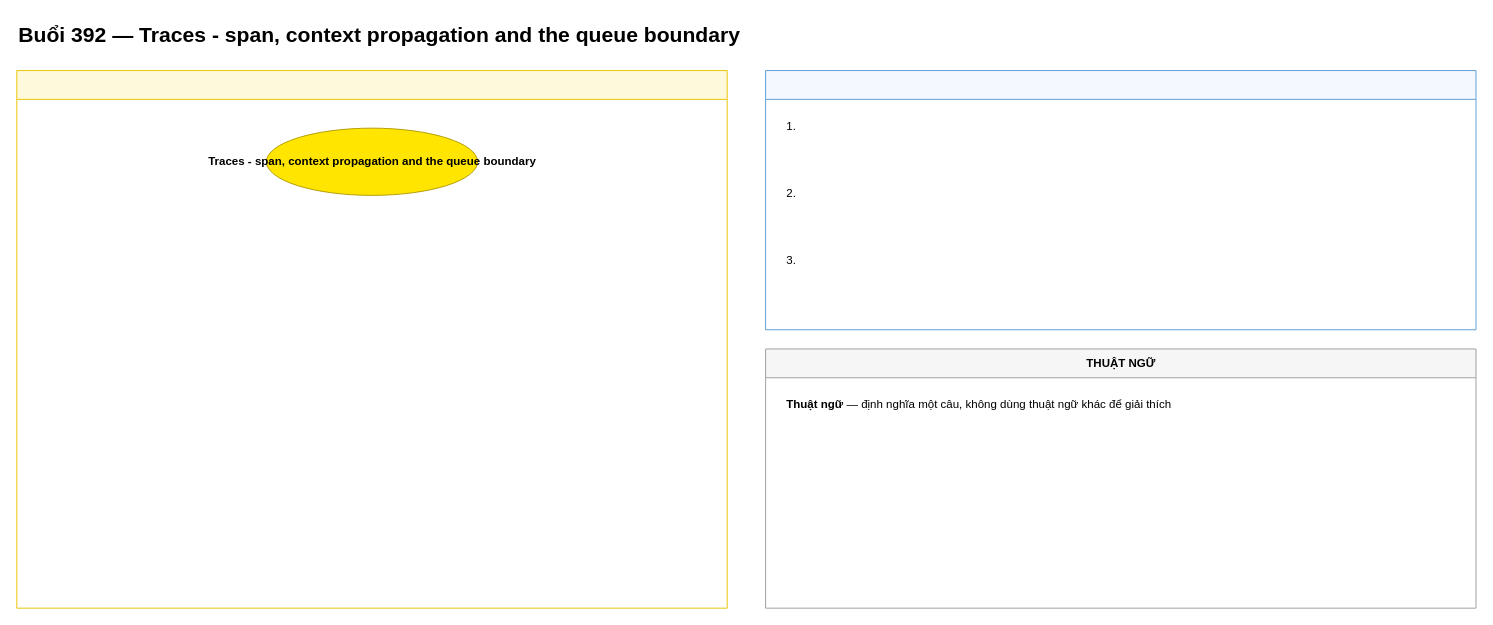
Image size: 1493x625. Some labels were removed from this diagram. The box of each missing label's shape, as (x1, y1, x2, y2) in pixels:
KEY TAKEAWAY — ba điều phải nhớ: (765, 70, 1476, 330)
MINDMAP: (16, 70, 727, 608)
